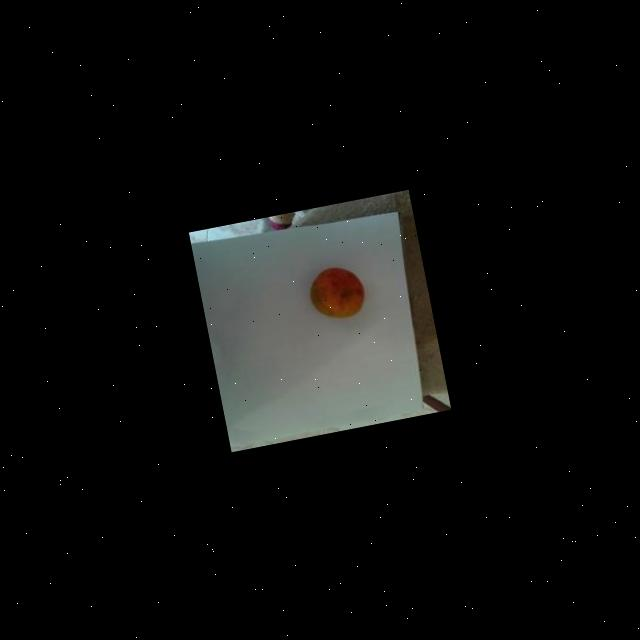Mango: (306, 262, 369, 322)
